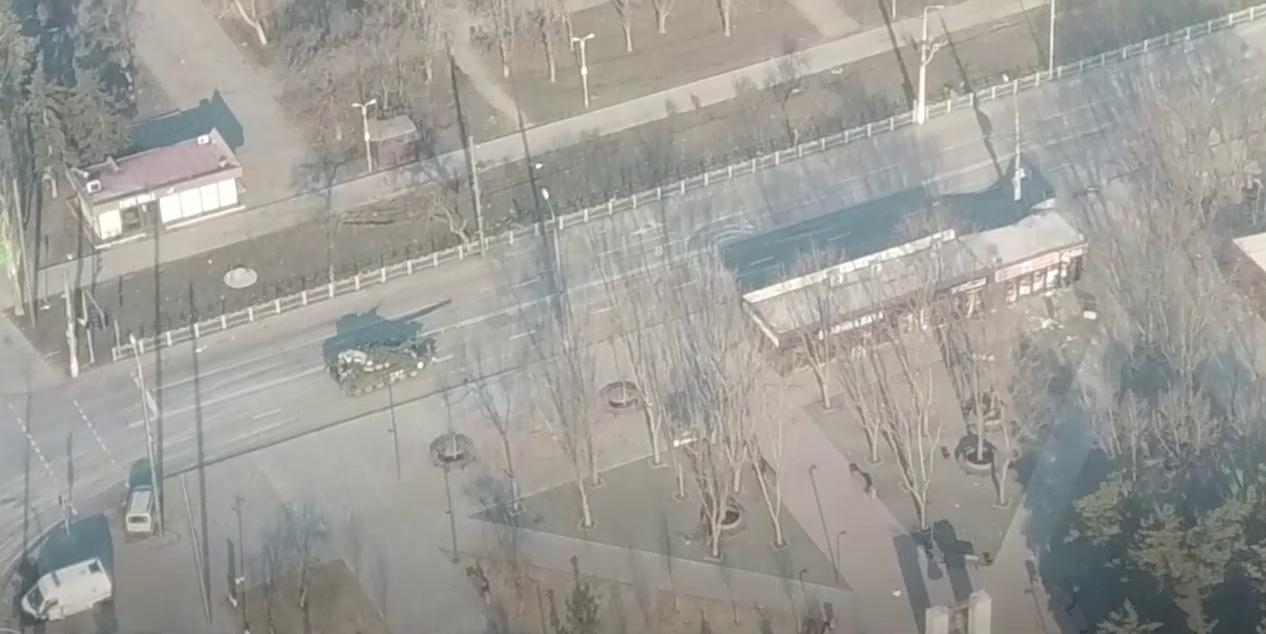tank: (328, 325, 456, 395)
